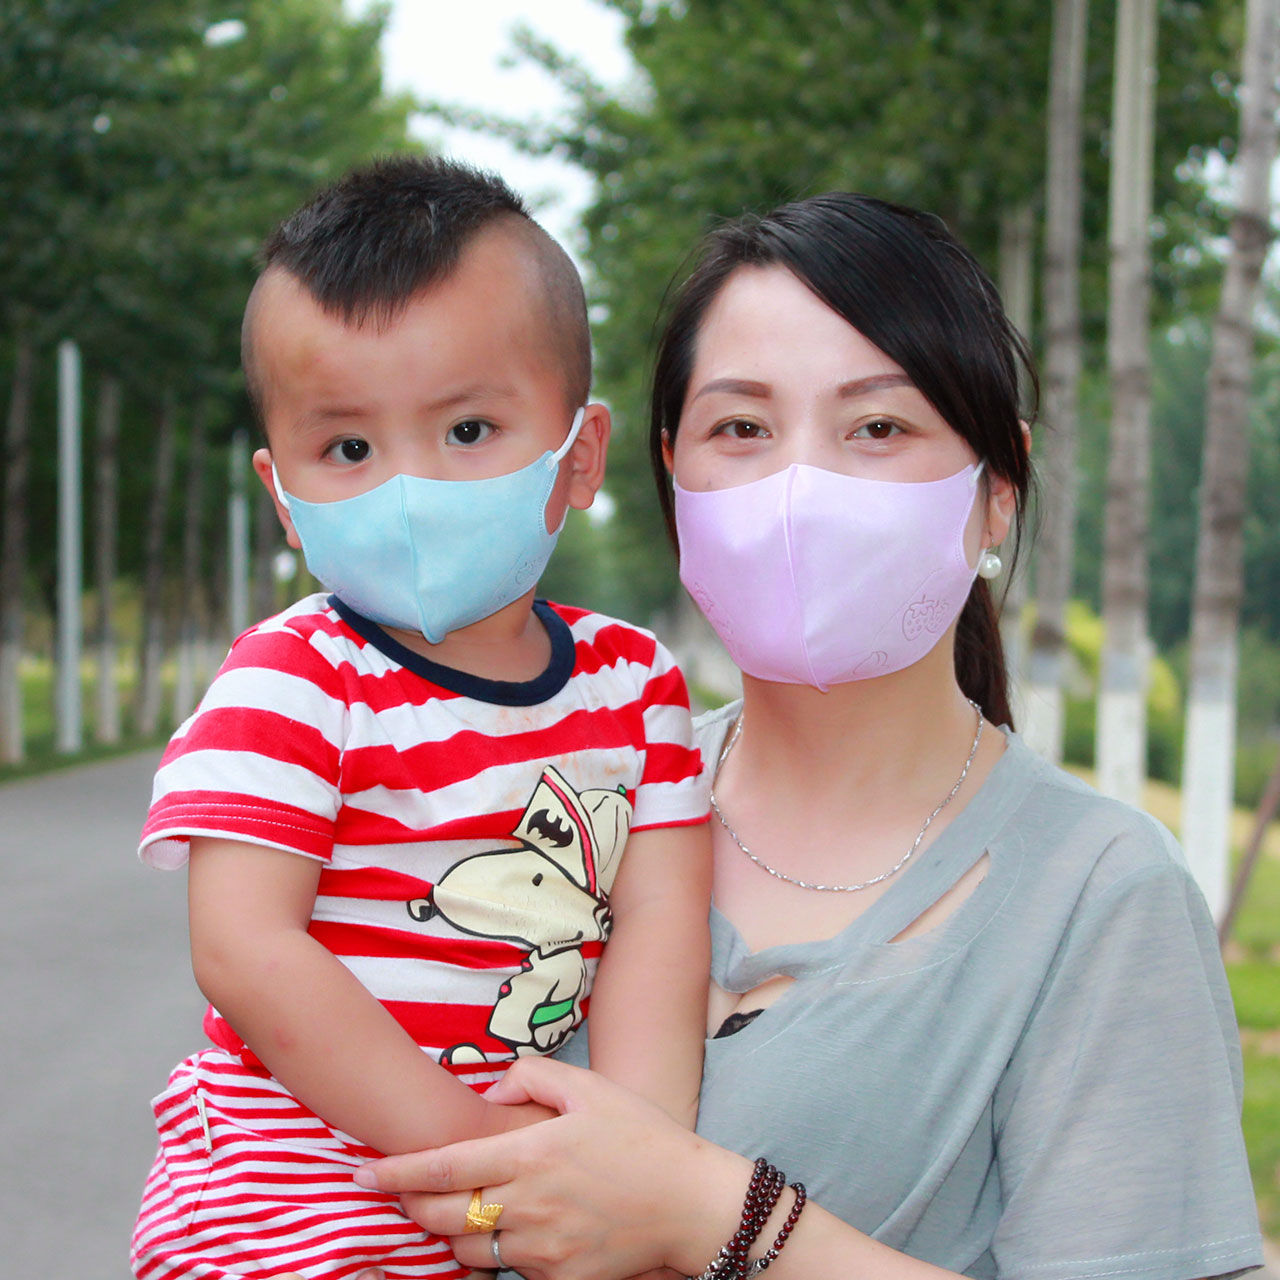face_mask: (671, 343, 975, 688), (271, 352, 564, 640)
